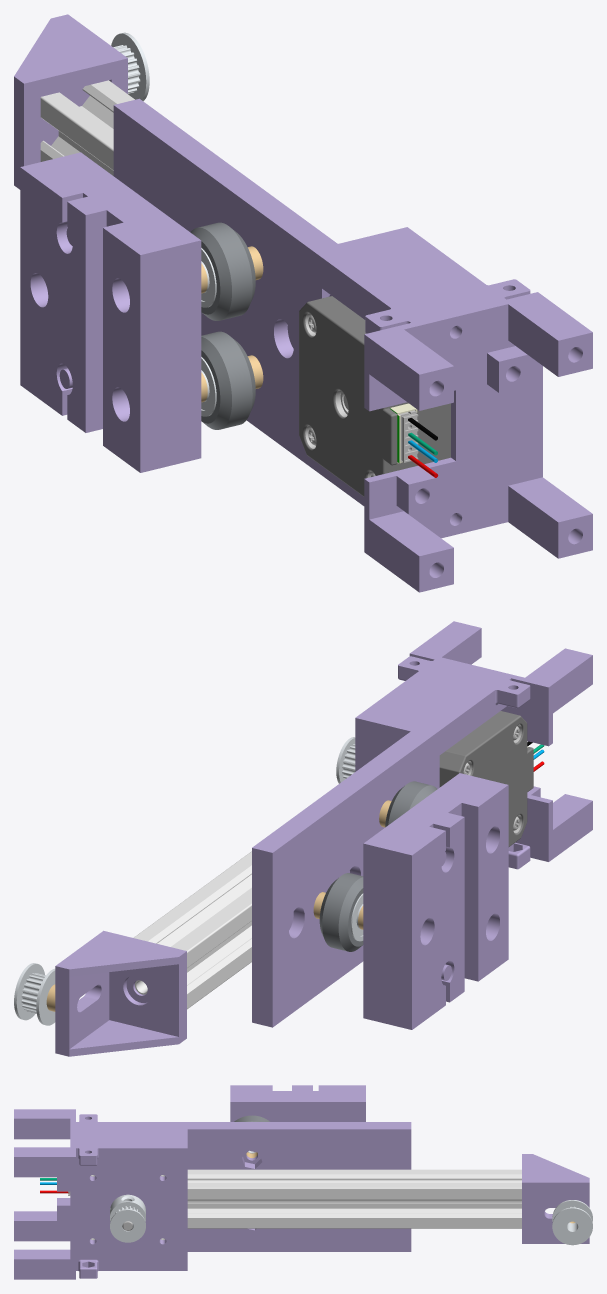
Rendered from Axe Z.gltf.
The picture shows the model from 3 angles, top to bottom: view 1: azimuth 30°, elevation 25°; view 2: azimuth 150°, elevation 25°; view 3: azimuth 270°, elevation 25°; orthographic projection. The views are drawn at different scales.
Visible parts, largest first — view 1: Part 1 (×5), 17HE12-1204S, V-SLOT WHEEL (×2), V-Slot Linear Rail 20x20mm, PULLEY-GT2-6MM; view 2: Part 1 (×5), V-Slot Linear Rail 20x20mm, 17HE12-1204S, V-SLOT WHEEL (×2), PULLEY-GT2-6MM, PINION-GT2-6MM; view 3: Part 1 (×5), V-Slot Linear Rail 20x20mm, PULLEY-GT2-6MM, PINION-GT2-6MM.
Part boxes in pixels (box(x1,y1,x2,y2)): Part 1 (×5): box(14, 14, 592, 592); 17HE12-1204S: box(299, 296, 450, 496); V-SLOT WHEEL (×2): box(190, 222, 255, 429); V-Slot Linear Rail 20x20mm: box(40, 80, 134, 175); PULLEY-GT2-6MM: box(111, 32, 149, 101); Part 1 (×5): box(55, 621, 592, 1056); V-Slot Linear Rail 20x20mm: box(133, 851, 251, 1009); 17HE12-1204S: box(439, 711, 533, 846); V-SLOT WHEEL (×2): box(319, 781, 437, 951); PULLEY-GT2-6MM: box(14, 963, 55, 1025); PINION-GT2-6MM: box(336, 737, 355, 783); Part 1 (×5): box(14, 1085, 589, 1279); V-Slot Linear Rail 20x20mm: box(187, 1169, 521, 1228); PULLEY-GT2-6MM: box(552, 1200, 592, 1245); PINION-GT2-6MM: box(110, 1194, 145, 1242).
Size of the model in its own units: 0.085 by 0.06 by 0.2565.
